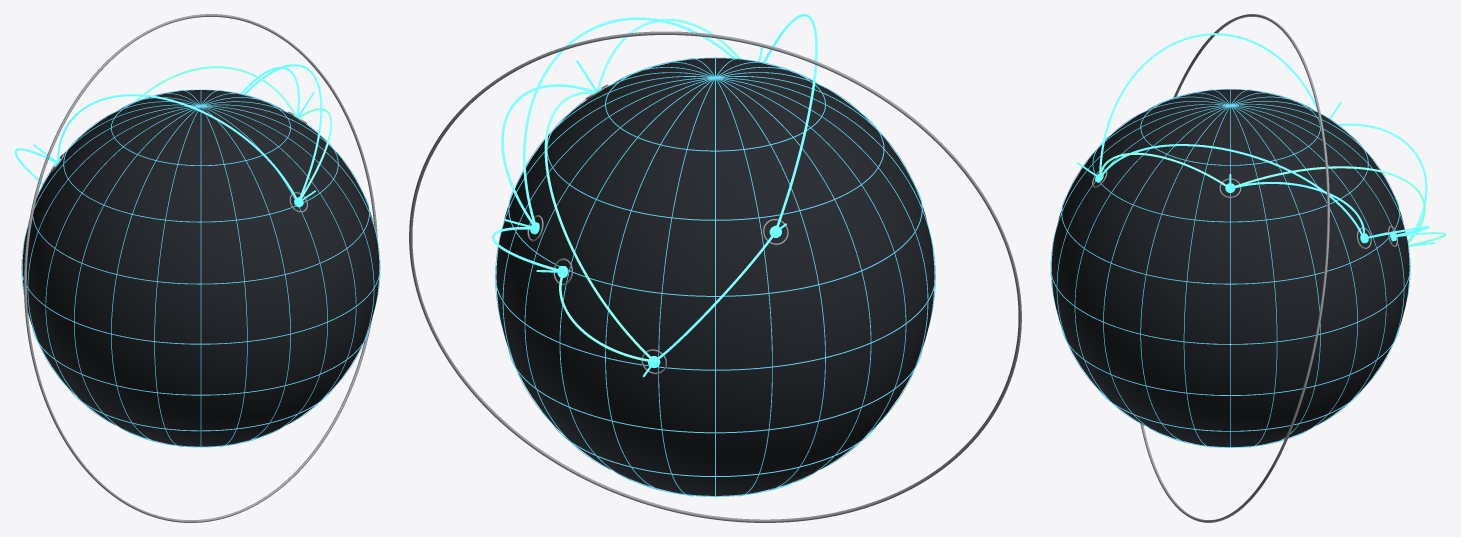
File: liquidity_globe.glb
The picture shows the model from 3 angles, left to right: view 1: azimuth 30°, elevation 25°; view 2: azimuth 150°, elevation 25°; view 3: azimuth 270°, elevation 25°; orthographic projection. The views are drawn at different scales.
Parts seen in each view (by area): view 1: GlobeShell, OrbitRing, Route_05, Lon_11, Lon_04, Lon_10, Lon_09, Lon_08, Lon_00, Lat_03, Lat_04, Lon_01 (+10 smaller); view 2: GlobeShell, OrbitRing, Route_07, Route_06, Lon_02, Lon_01, Lon_03, Route_05, Lon_04, Lon_00, Lon_11, Lon_05 (+7 smaller); view 3: GlobeShell, OrbitRing, Route_05, Route_07, Lon_06, Lon_05, Lon_07, Lon_08, Lon_04, Route_06, Lat_04, Lon_09 (+9 smaller).
Part boxes in pixels (bbox=[...]): GlobeShell: bbox=[22, 90, 379, 446]; OrbitRing: bbox=[24, 14, 377, 522]; Route_05: bbox=[57, 94, 297, 200]; Lon_11: bbox=[27, 104, 366, 387]; Lon_04: bbox=[200, 89, 201, 447]; Lon_10: bbox=[21, 105, 380, 307]; Lon_09: bbox=[37, 104, 374, 387]; Lon_08: bbox=[78, 101, 356, 424]; Lon_00: bbox=[45, 101, 323, 424]; Lat_03: bbox=[21, 259, 380, 344]; Lat_04: bbox=[32, 194, 369, 284]; Lon_01: bbox=[74, 97, 282, 438]; GlobeShell: bbox=[496, 58, 934, 495]; OrbitRing: bbox=[409, 31, 1021, 522]; Route_07: bbox=[523, 17, 735, 223]; Route_06: bbox=[544, 91, 651, 359]; Lon_02: bbox=[495, 77, 935, 325]; Lon_01: bbox=[511, 76, 928, 423]; Lon_03: bbox=[502, 76, 919, 422]; Route_05: bbox=[762, 14, 817, 228]; Lon_04: bbox=[524, 72, 867, 468]; Lon_00: bbox=[563, 72, 906, 468]; Lon_11: bbox=[613, 67, 871, 485]; Lon_05: bbox=[559, 67, 817, 485]; GlobeShell: bbox=[1051, 89, 1409, 446]; OrbitRing: bbox=[1140, 14, 1329, 522]; Route_05: bbox=[1099, 33, 1317, 174]; Route_07: bbox=[1101, 144, 1362, 236]; Lon_06: bbox=[1050, 105, 1410, 309]; Lon_05: bbox=[1064, 104, 1404, 387]; Lon_07: bbox=[1056, 104, 1397, 387]; Lon_08: bbox=[1074, 101, 1351, 424]; Lon_04: bbox=[1106, 101, 1386, 424]; Route_06: bbox=[1234, 166, 1425, 243]; Lat_04: bbox=[1061, 194, 1399, 284]; Lon_09: bbox=[1103, 96, 1313, 438].
Size of the model in its own units: 5.45 by 5.54 by 4.42.
